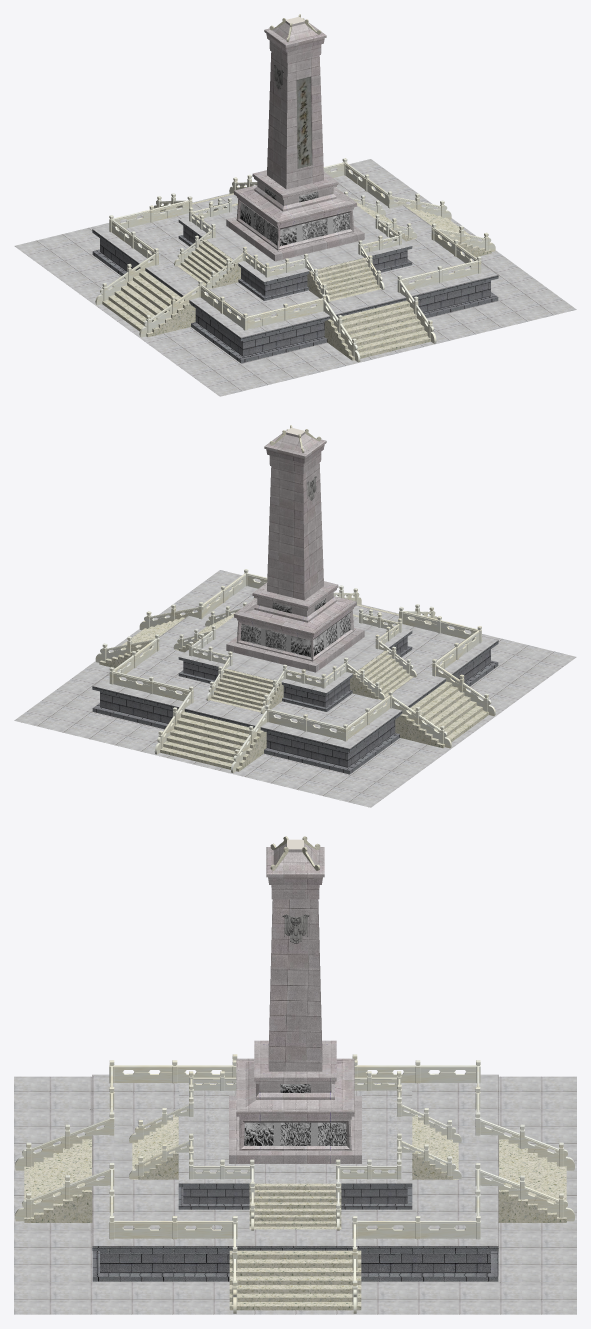
File: renminyingxiong.FBX
3 renders of one model, top to bottom at view 1: azimuth 30°, elevation 25°; view 2: azimuth 150°, elevation 25°; view 3: azimuth 270°, elevation 25°, orthographic. The views are drawn at different scales.
Parts seen in each view (by area): view 1: Group03, Box12, Box85, Box03, Box11, Box09, Box02, Box07, Box05, Box08, Line29; view 2: Group03, Box12, Box85, Box03, Box10, Box09, Box02, Box06, Box05, Box08, Line31, Line32; view 3: Group03, Box12, Box85, Box03, Box08, Box04, Box10, Box11, Box02, Box06, Box07, Line34 (+7 smaller).
Boxes of the visible parts, x1,y1,x2,y2 form: Group03: (92, 17, 497, 337); Box12: (14, 159, 576, 396); Box85: (226, 21, 364, 261); Box03: (92, 229, 498, 363); Box11: (324, 300, 430, 360); Box09: (102, 270, 195, 337); Box02: (178, 220, 412, 300); Box07: (307, 258, 381, 301); Box05: (177, 239, 240, 289); Box08: (406, 206, 491, 257); Line29: (247, 307, 284, 329); Group03: (93, 428, 498, 748); Box12: (14, 570, 576, 807); Box85: (226, 431, 364, 672); Box03: (92, 640, 498, 774); Box10: (160, 711, 266, 771); Box09: (395, 681, 488, 748); Box02: (178, 631, 412, 711); Box06: (210, 669, 283, 712); Box05: (350, 650, 413, 700); Box08: (99, 617, 184, 668); Line31: (306, 718, 343, 740); Line32: (113, 671, 149, 692); Group03: (92, 839, 498, 1246); Box12: (14, 1076, 576, 1314); Box85: (229, 843, 361, 1163); Box03: (92, 1246, 498, 1281); Box08: (229, 1250, 361, 1310); Box04: (249, 1183, 341, 1229); Box10: (498, 1139, 566, 1222); Box11: (24, 1139, 92, 1222); Box02: (178, 1183, 412, 1209); Box06: (412, 1114, 458, 1179); Box07: (132, 1114, 178, 1179); Line34: (357, 1221, 416, 1238).
Size of the model in its own units: 1419 by 985 by 1419.
Materials: 11 (10 with a texture image).
